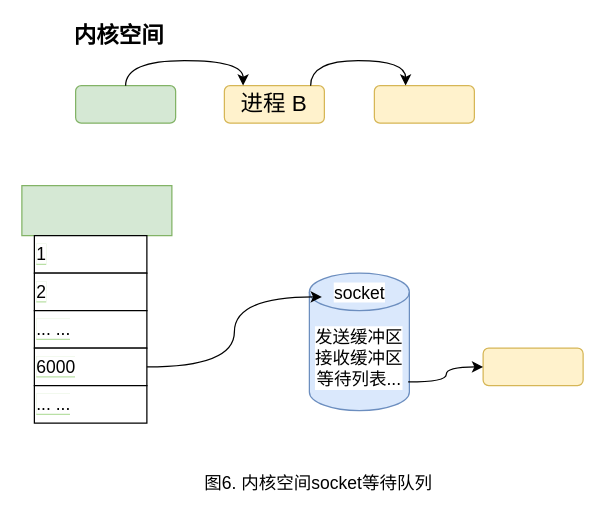
Some shapes in this 605 by 523 pixel diagram are drawn without their labels. The centre of each missing label's shape, as x and y in pixels:
"工作队列" belongs at (x=125, y=103).
"文件列表(fd)" belongs at (x=96, y=210).
"进程 A" belongs at (x=532, y=366).
"进程 C" belongs at (x=423, y=103).
